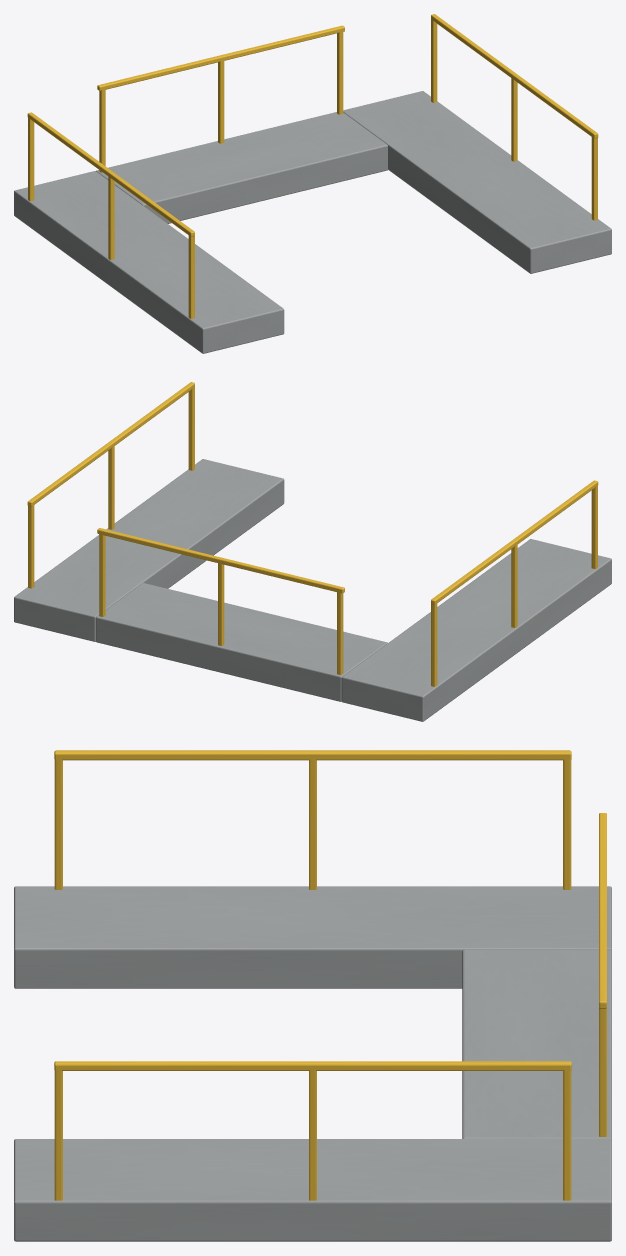
Rendered from rocket_access_platform_half.glb.
The picture shows the model from 3 angles, top to bottom: view 1: azimuth 30°, elevation 25°; view 2: azimuth 150°, elevation 25°; view 3: azimuth 270°, elevation 25°; orthographic projection. The views are drawn at different scales.
Visible parts, largest first — view 1: DeckWing, DeckWing.001, BackDeck, BackRail, OuterRail, OuterRail.001, OuterPost.003, BackPost.001, BackPost.002, OuterPost, OuterPost.004, OuterPost.001 (+3 smaller); view 2: DeckWing, DeckWing.001, BackDeck, BackRail, OuterRail.001, OuterRail, OuterPost.002, OuterPost.005, BackPost.001, BackPost, BackPost.002, OuterPost.004 (+3 smaller); view 3: DeckWing.001, DeckWing, BackDeck, OuterRail, OuterRail.001, BackRail, OuterPost, OuterPost.002, OuterPost.003, OuterPost.005, OuterPost.001, OuterPost.004 (+1 smaller).
Part boxes in pixels (bbox=[...]): DeckWing: bbox=[14, 171, 284, 353]; DeckWing.001: bbox=[343, 91, 611, 273]; BackDeck: bbox=[96, 112, 387, 223]; BackRail: bbox=[97, 25, 344, 90]; OuterRail: bbox=[27, 112, 194, 236]; OuterRail.001: bbox=[431, 14, 598, 138]; OuterPost.003: bbox=[591, 135, 597, 220]; BackPost.001: bbox=[218, 59, 224, 143]; BackPost.002: bbox=[337, 30, 343, 114]; OuterPost: bbox=[188, 234, 194, 318]; OuterPost.004: bbox=[511, 76, 517, 161]; OuterPost.001: bbox=[108, 175, 114, 259]; DeckWing: bbox=[341, 539, 611, 721]; DeckWing.001: bbox=[14, 459, 284, 641]; BackDeck: bbox=[96, 583, 387, 701]; BackRail: bbox=[97, 528, 344, 593]; OuterRail.001: bbox=[27, 382, 194, 506]; OuterRail: bbox=[431, 480, 598, 604]; OuterPost.002: bbox=[431, 602, 437, 686]; OuterPost.005: bbox=[28, 503, 34, 588]; BackPost.001: bbox=[218, 561, 224, 645]; BackPost: bbox=[337, 590, 343, 674]; BackPost.002: bbox=[99, 532, 105, 616]; OuterPost.004: bbox=[108, 445, 114, 529]; DeckWing.001: bbox=[14, 1139, 611, 1241]; DeckWing: bbox=[14, 886, 611, 988]; BackDeck: bbox=[462, 949, 611, 1139]; OuterRail: bbox=[54, 750, 571, 760]; OuterRail.001: bbox=[54, 1061, 571, 1070]; BackRail: bbox=[599, 813, 606, 1008]; OuterPost: bbox=[54, 757, 62, 889]; OuterPost.002: bbox=[563, 757, 571, 889]; OuterPost.003: bbox=[54, 1068, 62, 1200]; OuterPost.005: bbox=[563, 1068, 571, 1200]; OuterPost.001: bbox=[309, 757, 316, 889]; OuterPost.004: bbox=[309, 1068, 316, 1200].
Size of the model in its own units: 5 by 1.31 by 4.
2 materials, 2 textured.
